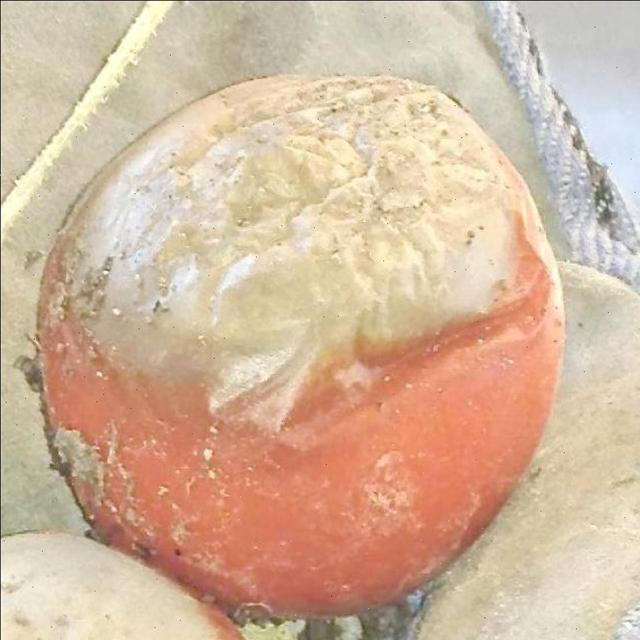Sunscald Fruit: (38, 49, 351, 284)
